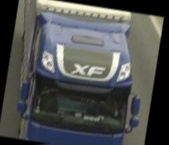truck: (4, 0, 156, 145)
